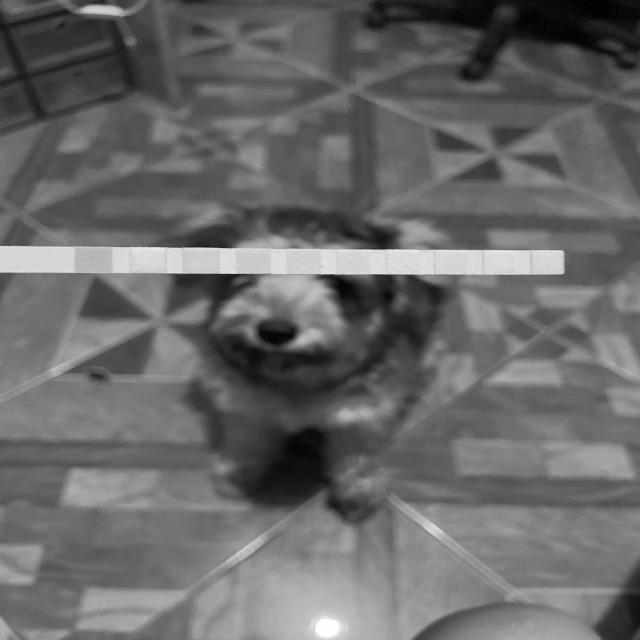Bilirubin: (130, 248, 166, 274)
Blood: (287, 249, 320, 274)
Glucose: (75, 246, 112, 272)
Ketone: (183, 248, 219, 274)
Leukocytes: (532, 250, 564, 274)
Nitrite: (484, 250, 514, 274)
Protein: (386, 250, 418, 275)
SpGravity: (238, 248, 270, 275)
Urobilinogen: (435, 250, 467, 275)
background: (0, 0, 640, 640)
pH: (338, 250, 370, 274)
strip: (0, 247, 565, 275)
